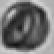correct: (0, 0, 52, 52)
